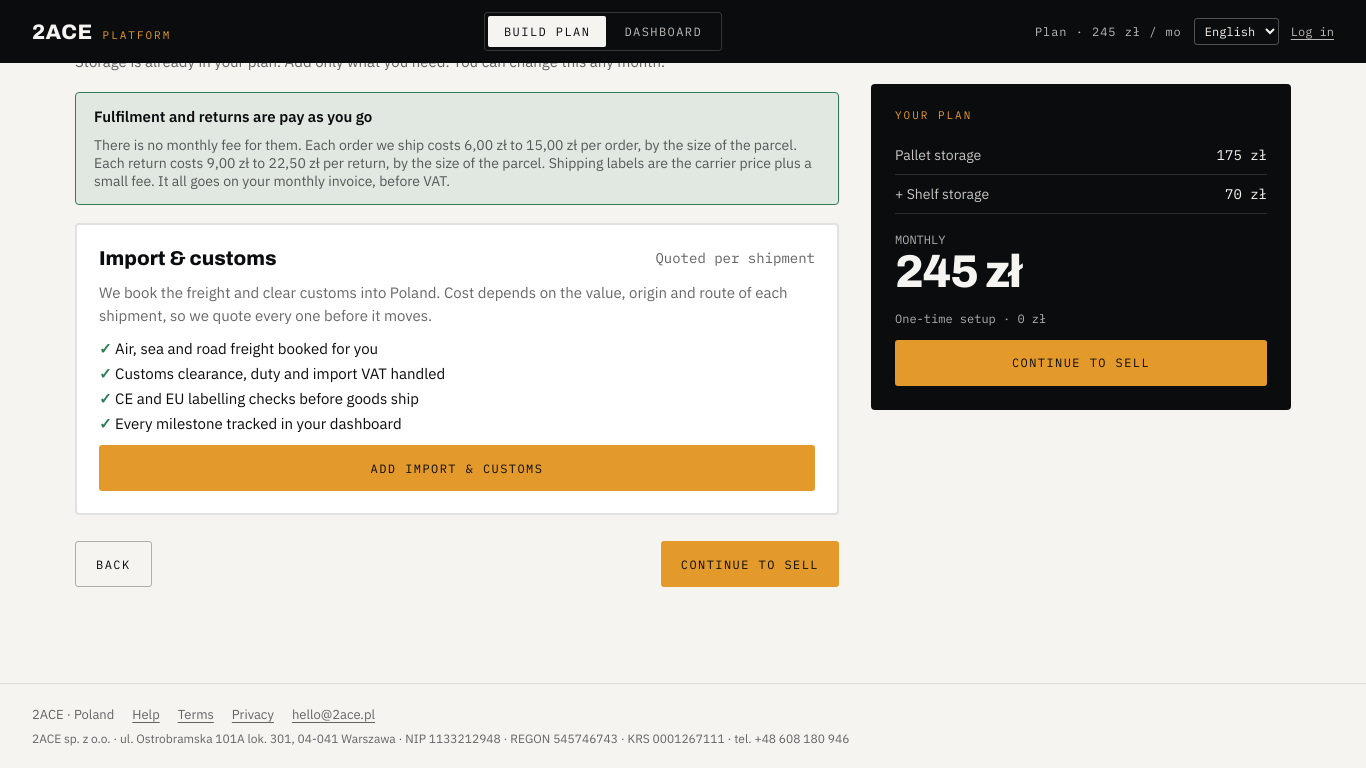
Test: plan builder › services: pay as you go with the real tariff; import & customs adds nothing monthly
(page scrolled)
Click the button "Add import & customs": (457, 468) [99,445,815,491]
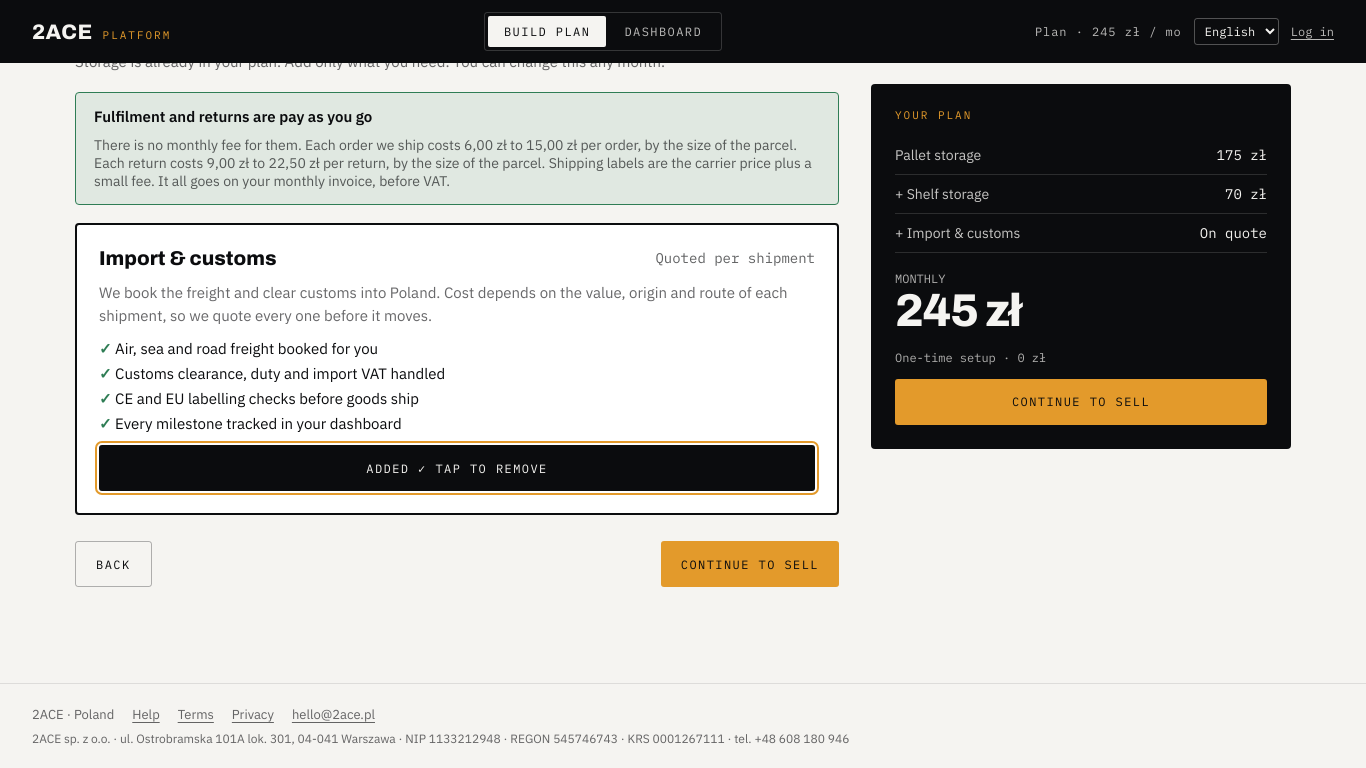
Expected: the text "245 zł" is shown, [895,286,1021,336]
Expected: the text "On quote" is shown, [1200,224,1267,242]
